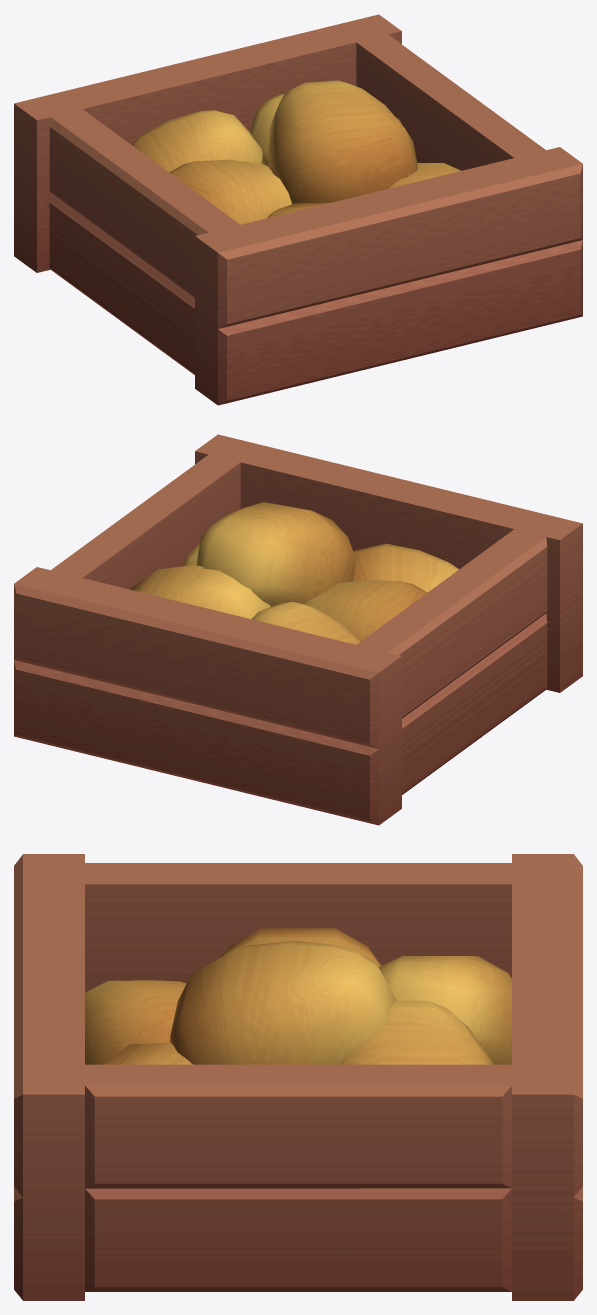
The model's file is crate_potatoes.gltf.
3 views of the same model, one above another, from view 1: azimuth 30°, elevation 25°; view 2: azimuth 150°, elevation 25°; view 3: azimuth 270°, elevation 25° (orthographic). The views are drawn at different scales.
Parts seen in each view (by area): view 1: crate_potatoes; view 2: crate_potatoes; view 3: crate_potatoes.
Boxes of the visible parts, box(x1,y1,x2,y2) form: crate_potatoes: box(14, 14, 582, 405); crate_potatoes: box(14, 434, 582, 825); crate_potatoes: box(14, 854, 582, 1300).
Size of the model in its own units: 2 by 0.9658 by 2.
1 material, 1 textured.
